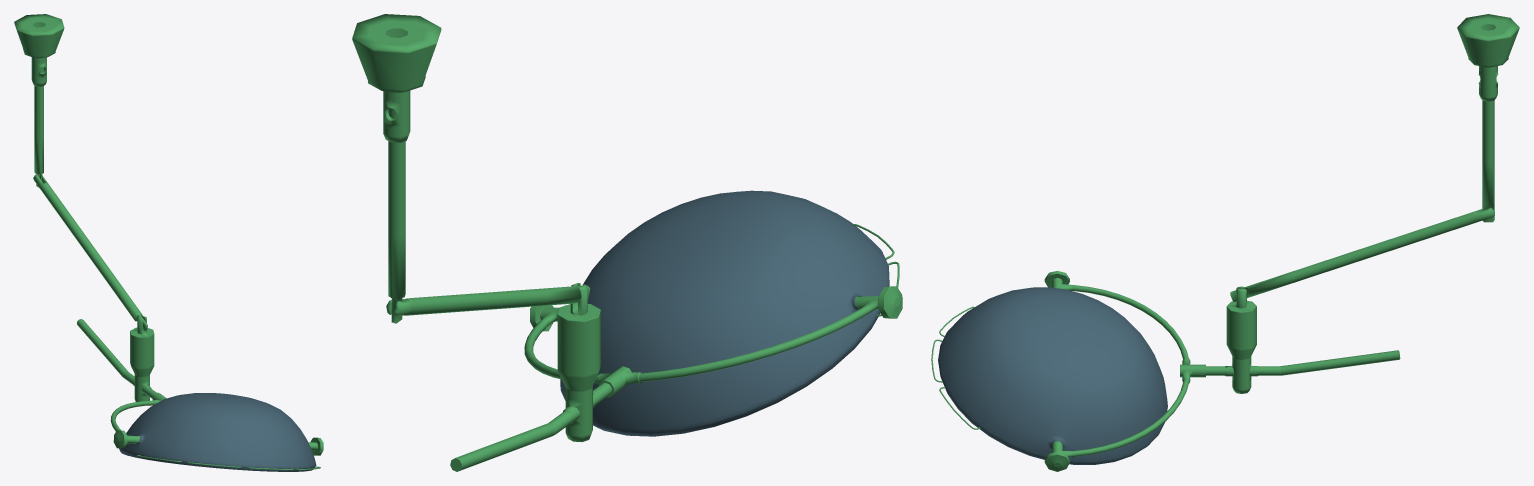
File: operation_lamp.FBX
The picture shows the model from 3 angles, left to right: view 1: azimuth 30°, elevation 25°; view 2: azimuth 150°, elevation 25°; view 3: azimuth 270°, elevation 25°; orthographic projection. The views are drawn at different scales.
Parts seen in each view (by area): view 1: lampskarm, takfaste; view 2: lampskarm, takfaste; view 3: lampskarm, takfaste.
Part boxes in pixels (x1,y1,x2,y2): lampskarm: (119,393,320,471); takfaste: (14,14,323,455); lampskarm: (560,190,899,436); takfaste: (352,14,902,471); lampskarm: (931,287,1167,464); takfaste: (1044,14,1519,471).
Bounding box in the file's own units: 93.89 × 146 × 194.
